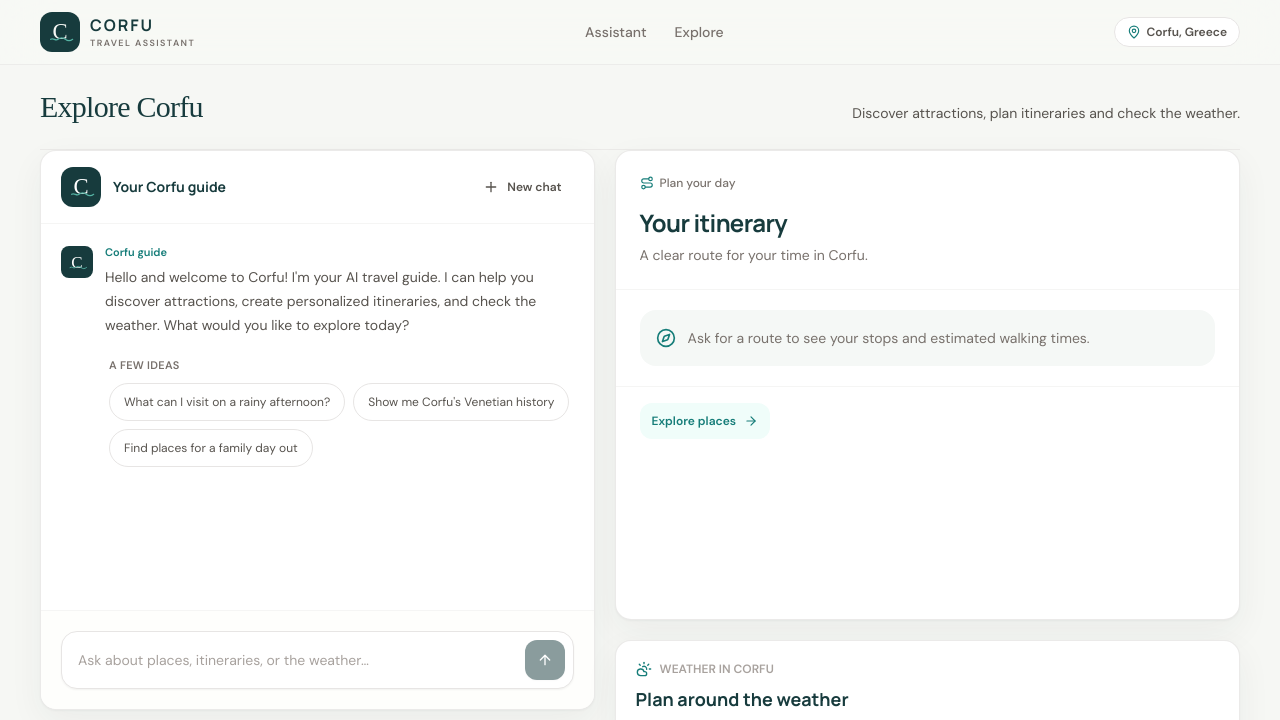
Test case: Corfu assistant API integration › sends real chat messages and reuses the conversation ID across turns
Step 1. Type "Tell me about Old Fortress" into the text box named "Message your Corfu guide" → (293, 660), box [70,640,517,680]
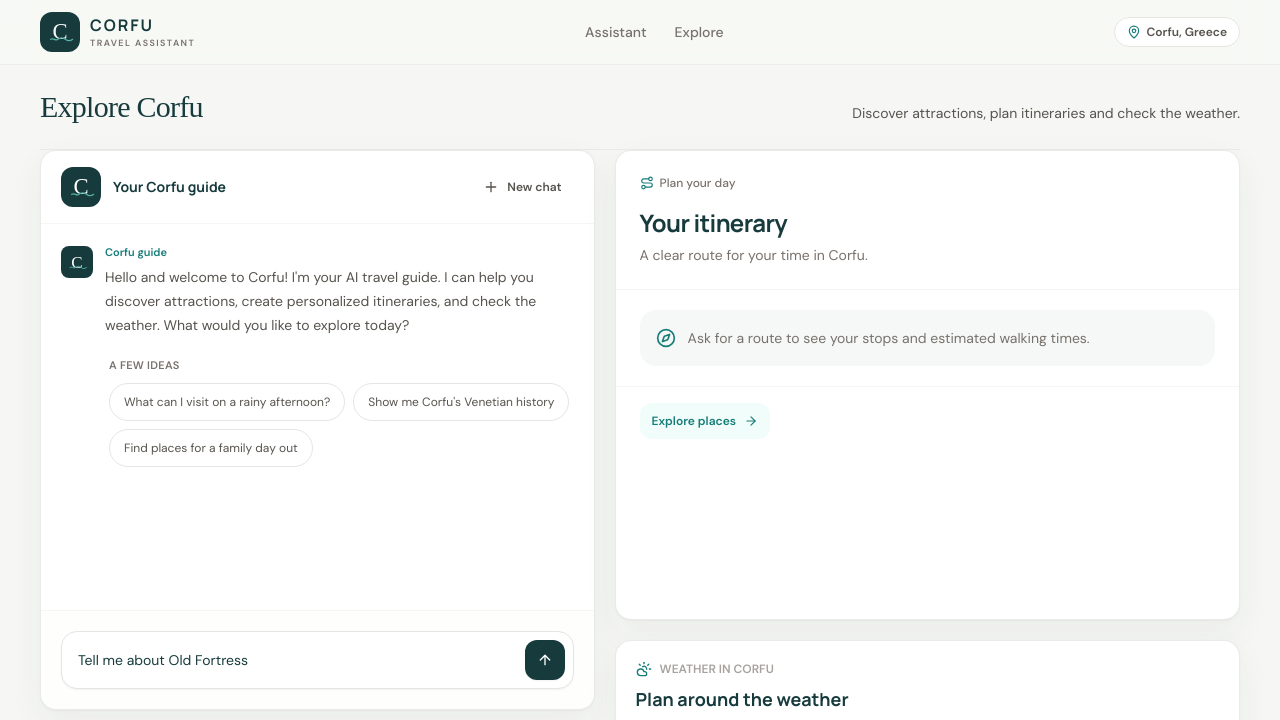
Expected: the button named "Send message" is enabled
Step 2. Click the button named "Send message" → (545, 660), box [525,640,565,680]
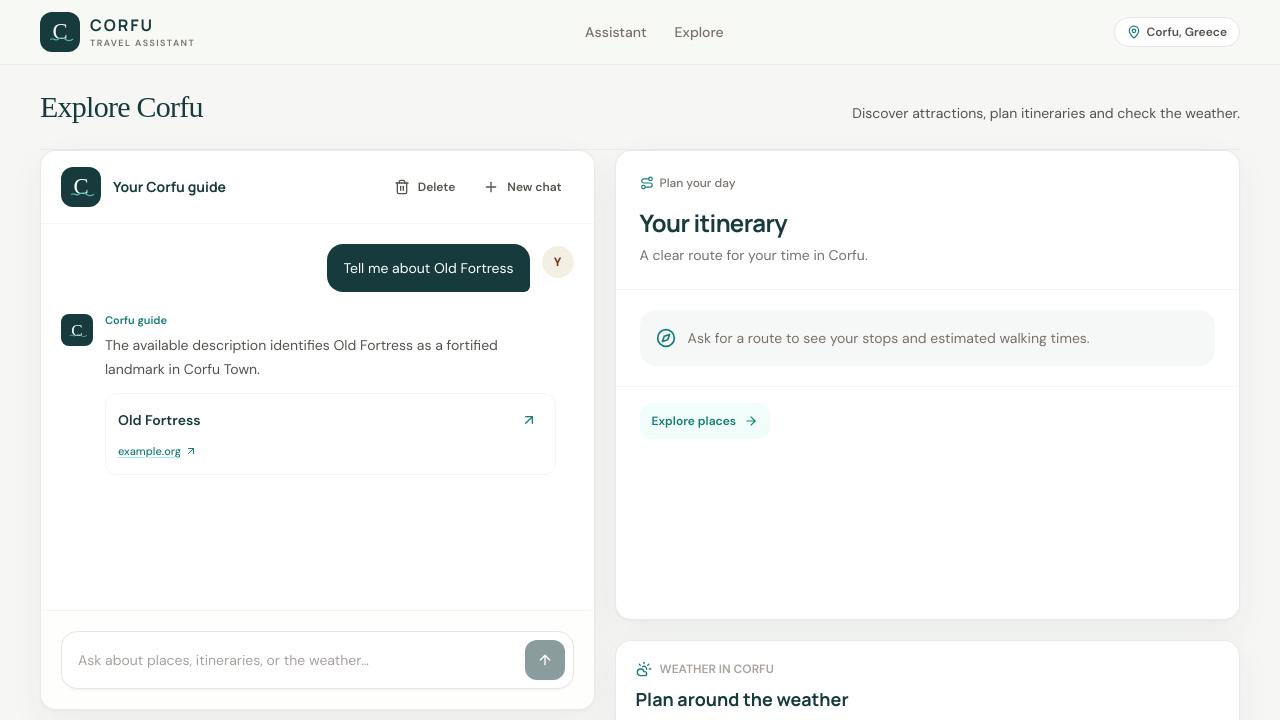
Expected: the text "Hello and welcome to Corfu!" is gone
Expected: the text "The available description identifies Old Fortress as a fortified landmark in Corfu Town." is shown, [105,336,502,378]
Step 3. Type "Make it suitable for a child" into the text box named "Message your Corfu guide" → (293, 660), box [70,640,517,680]
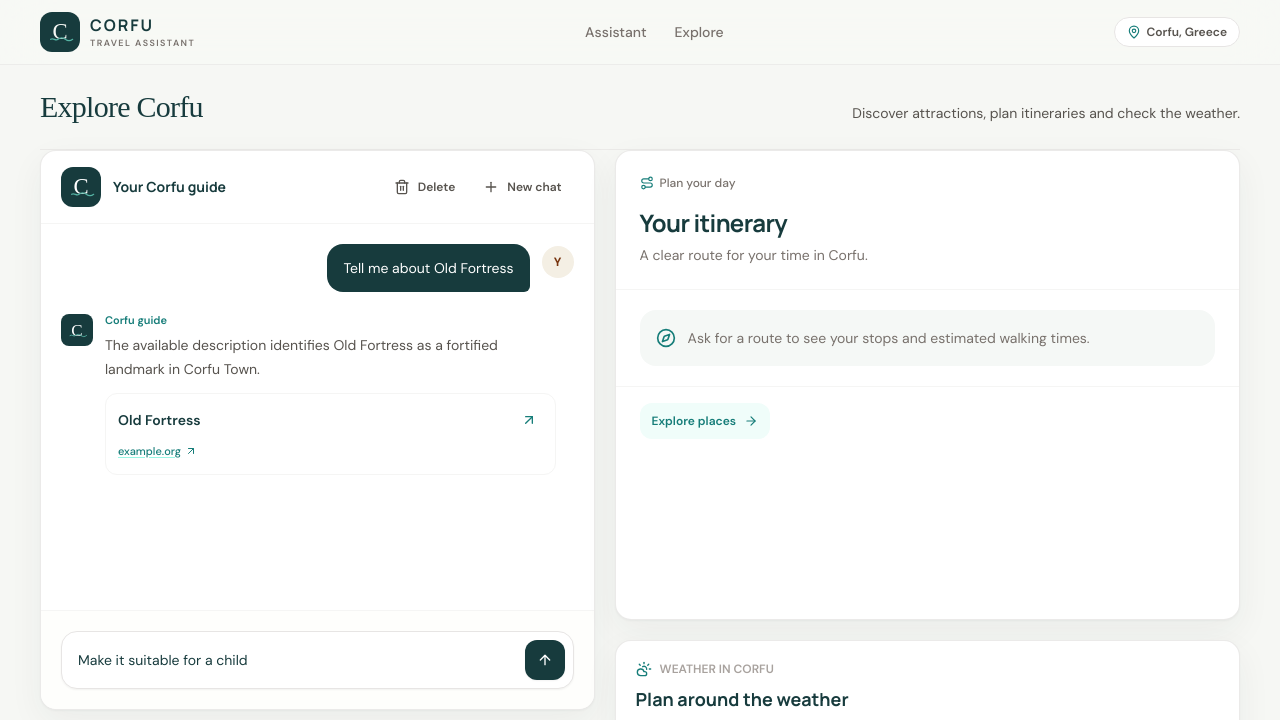
Expected: the button named "Send message" is enabled
Step 4. Click the button named "Send message" → (545, 660), box [525,640,565,680]
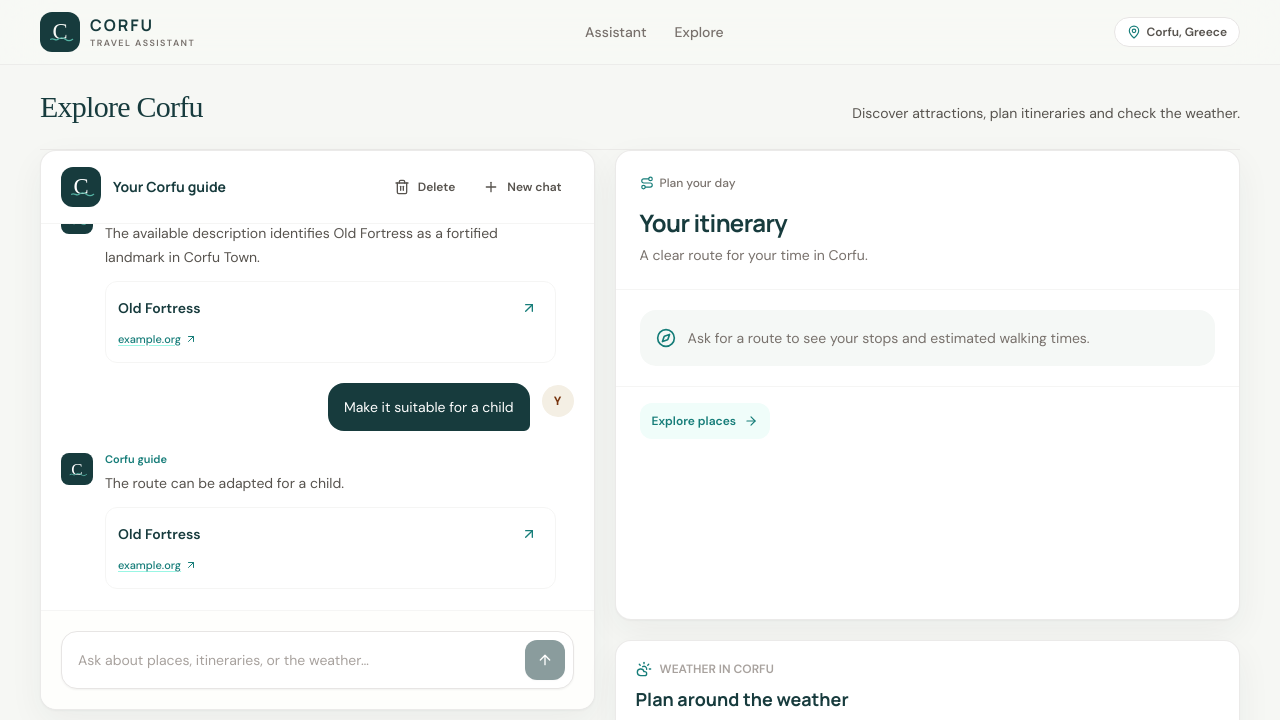
Expected: the text "The route can be adapted for a child." is shown, [105,474,344,492]
